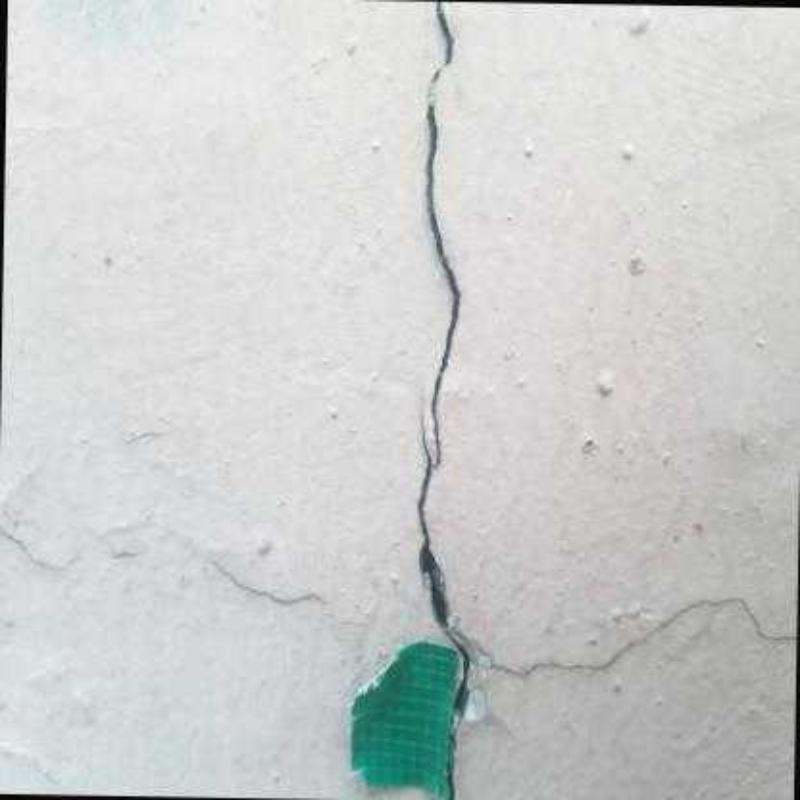crack: (456, 598, 798, 677), (419, 390, 472, 798), (424, 1, 460, 469), (213, 562, 325, 604), (113, 552, 138, 560)
